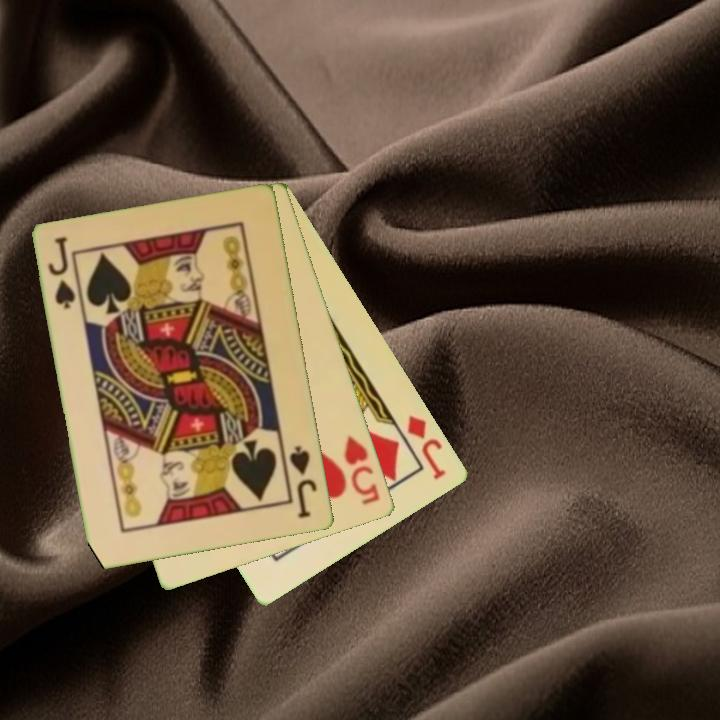5h: (341, 432, 383, 509)
Jd: (404, 412, 450, 483)
Js: (286, 442, 321, 522), (45, 233, 79, 313)
